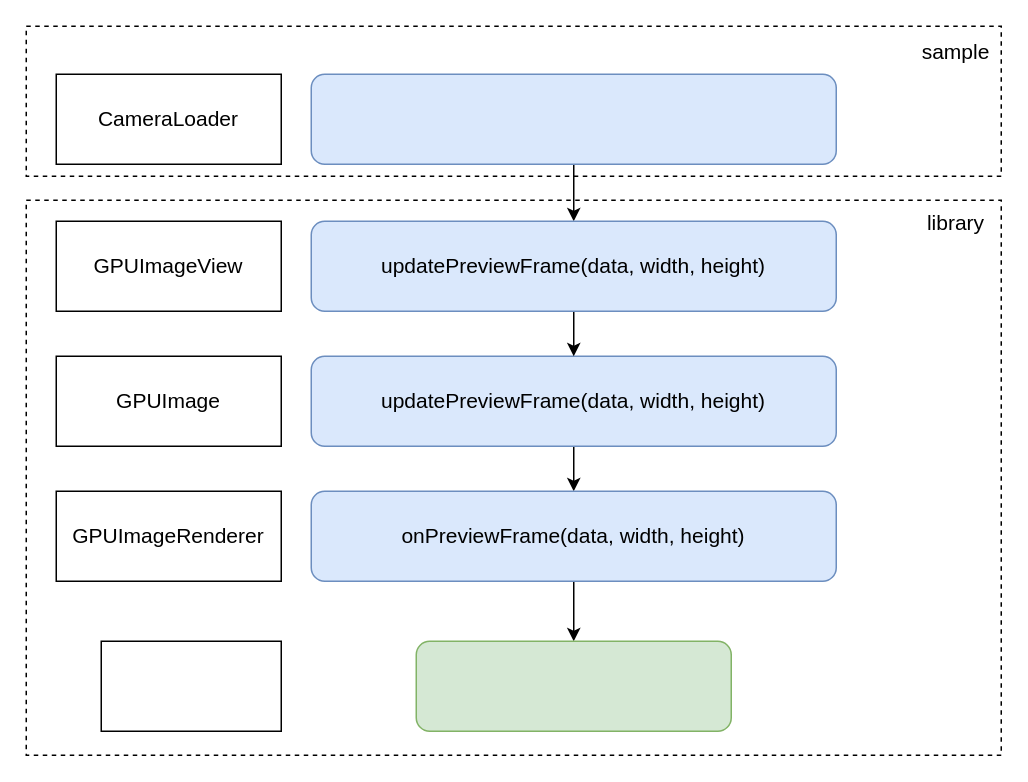
The diagram is 1028 pixels wide and 782 high, and some of its shapes have lost their labels. The shapes that lost their labels are listed below. From the top down, each one's centre as x and y in pixels, then its label:
the point at 573,118: setOnPreviewFrameListener
the point at 190,685: OpenGlUtils
the point at 573,685: loadTexture
